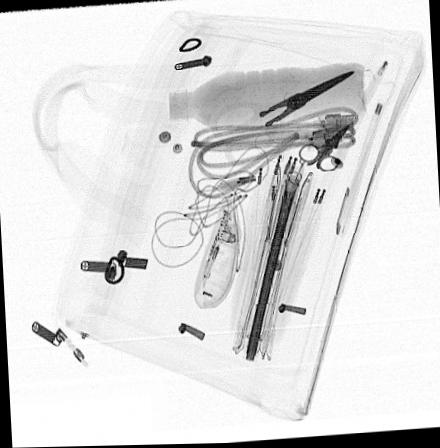Scissors: (208, 69, 355, 168), (298, 124, 351, 175)
